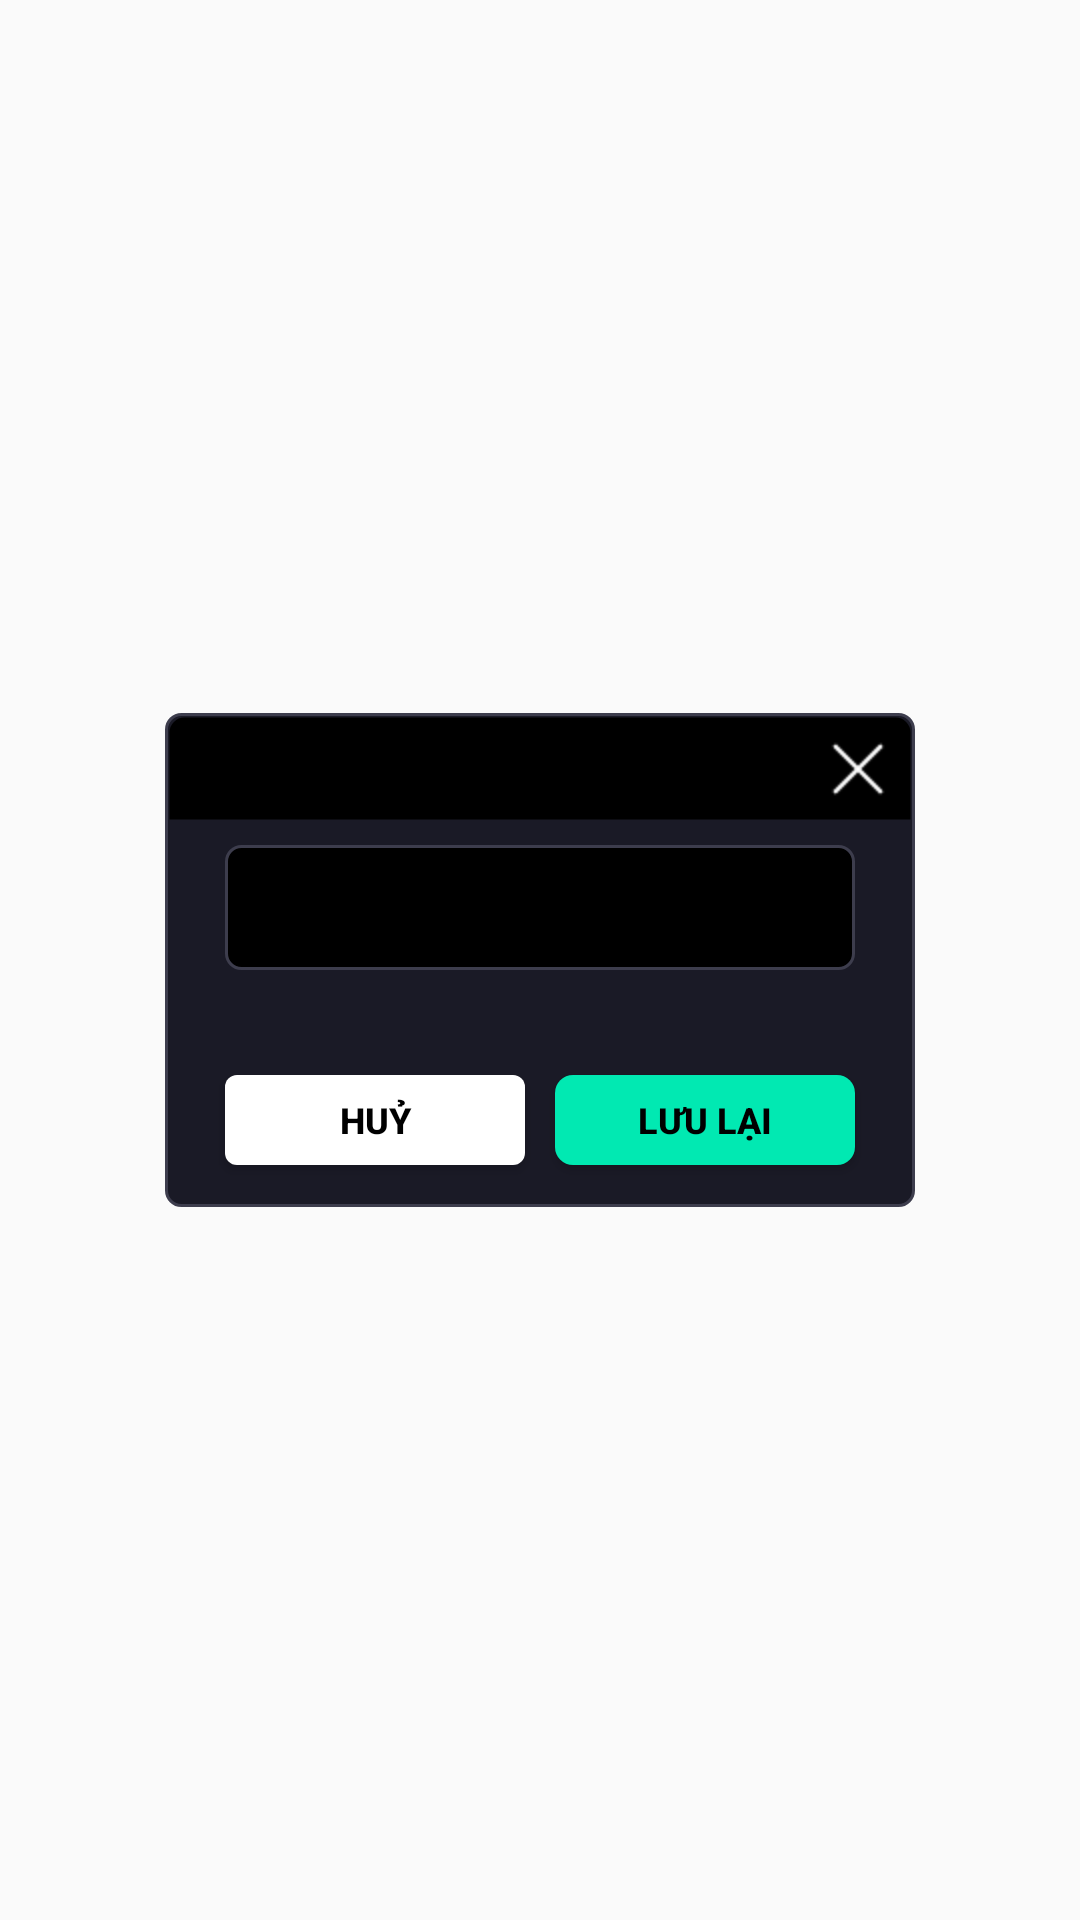

Icons on this 1080 × 1920 Android screen, each with its box as BBox(x1, y1, x2, y2):
close: BBox(832, 743, 884, 795)
